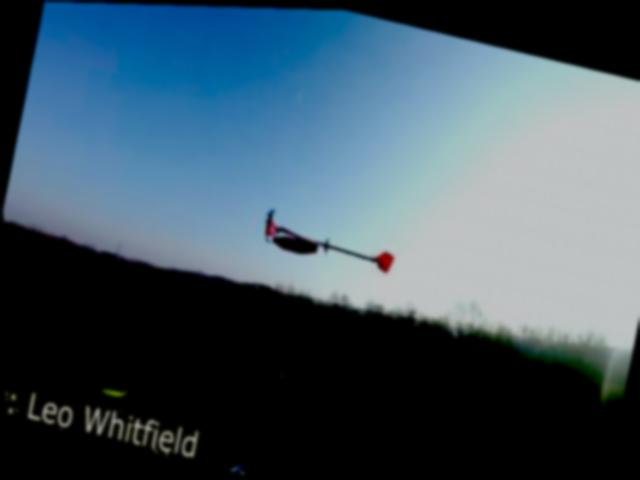uav: (244, 193, 410, 292)
